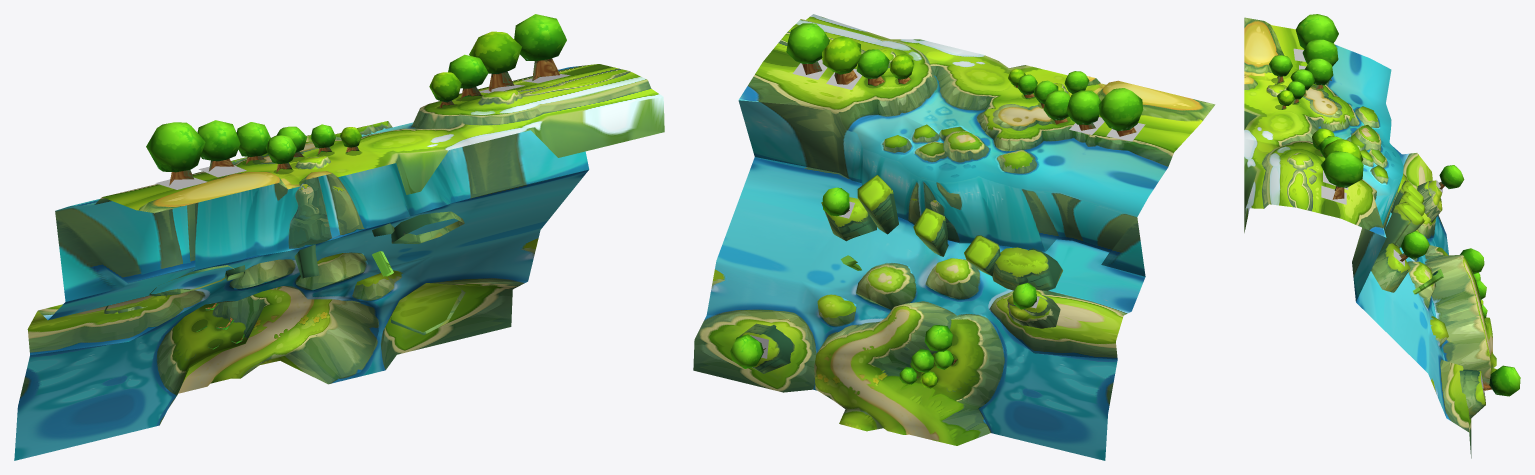
Rendered from Chapter2Model1.FBX.
3 renders of one model, left to right at view 1: azimuth 30°, elevation 25°; view 2: azimuth 150°, elevation 25°; view 3: azimuth 270°, elevation 25°, orthographic. The views are drawn at different scales.
Parts seen in each view (by area): view 1: Chapter2Model1Model1, Chapter2Model1Model3, Chapter2Model1Model2; view 2: Chapter2Model1Model1, Chapter2Model1Model3, Chapter2Model1Model2; view 3: Chapter2Model1Model1, Chapter2Model1Model3, Chapter2Model1Model2.
Part boxes in pixels (box(x1,y1,x2,y2)): Chapter2Model1Model1: box(14, 64, 664, 460); Chapter2Model1Model3: box(146, 14, 570, 349); Chapter2Model1Model2: box(104, 155, 465, 334); Chapter2Model1Model1: box(693, 14, 1215, 460); Chapter2Model1Model3: box(730, 23, 1145, 388); Chapter2Model1Model2: box(739, 83, 1068, 373); Chapter2Model1Model1: box(1244, 17, 1496, 458); Chapter2Model1Model3: box(1269, 14, 1520, 397); Chapter2Model1Model2: box(1266, 83, 1485, 418).
Bounding box in the file's own units: 970 × 614 × 704.
